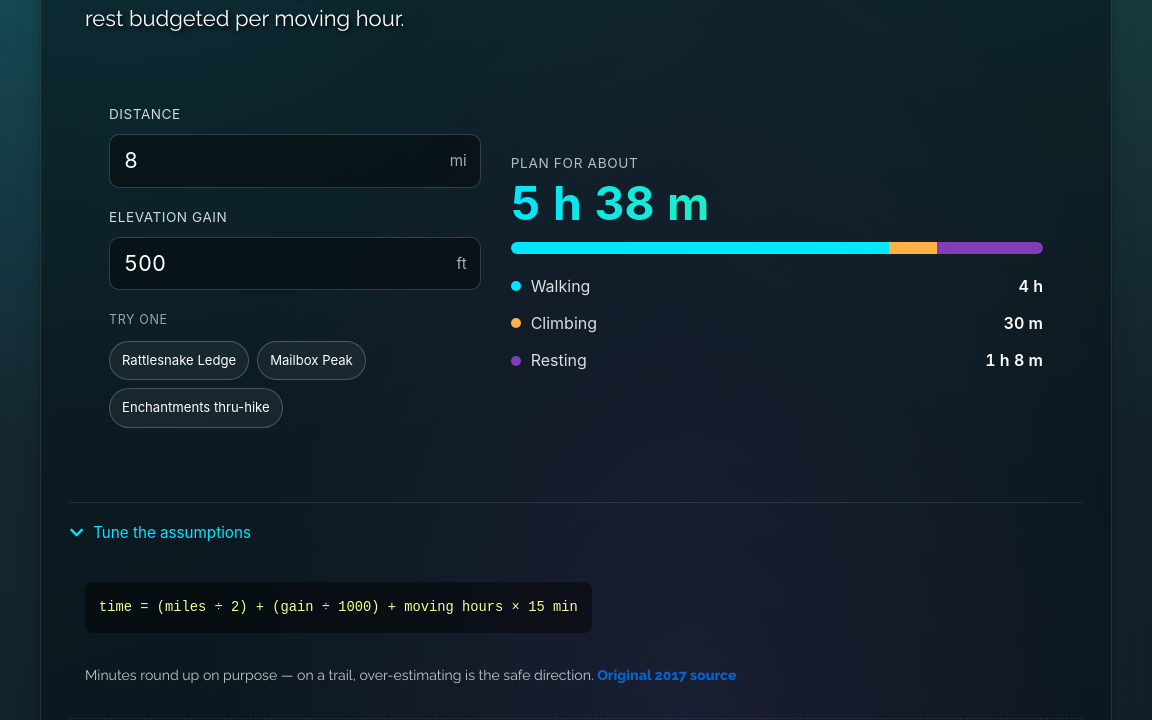
Test: Toolkit › applies a preset when its button is clicked
The image size is (1152, 720).
(page scrolled)
Click the button with class "toolkit-preset" showing "Mailbox Peak".
click(312, 361)  # box [257,341,366,380]
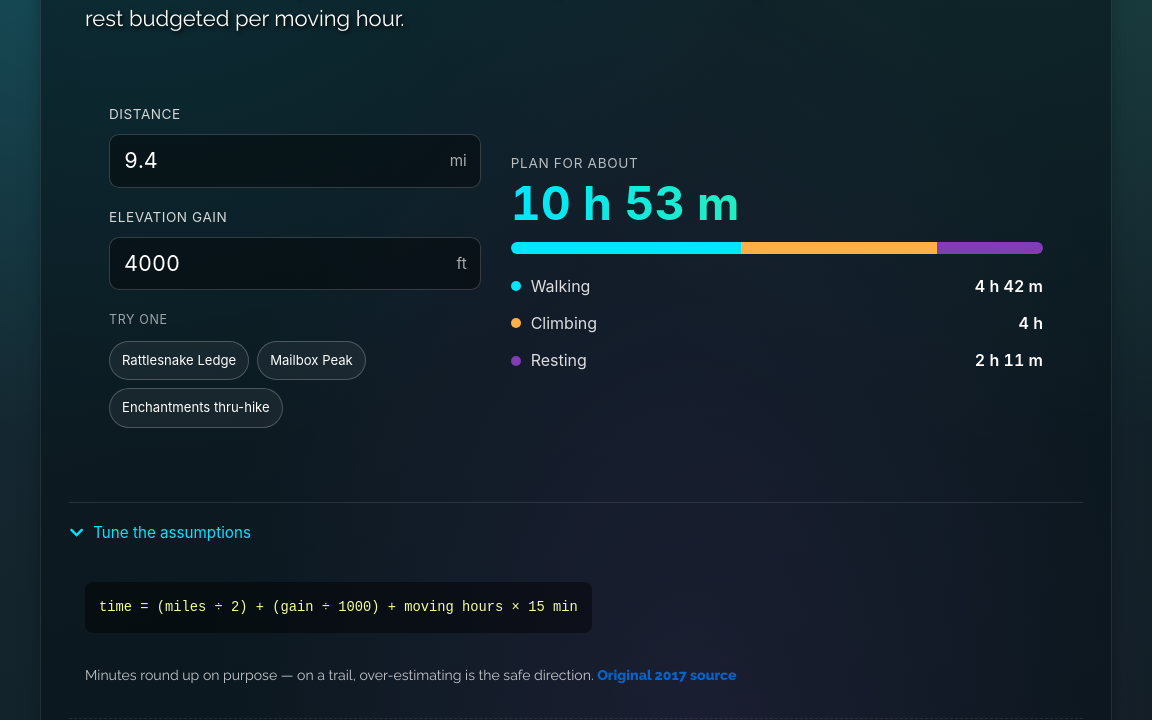
Now the number field with id "hike-miles" holds "9.4", box [109,134,481,188]
Now the number field with id "hike-gain" holds "4000", box [109,237,481,290]
